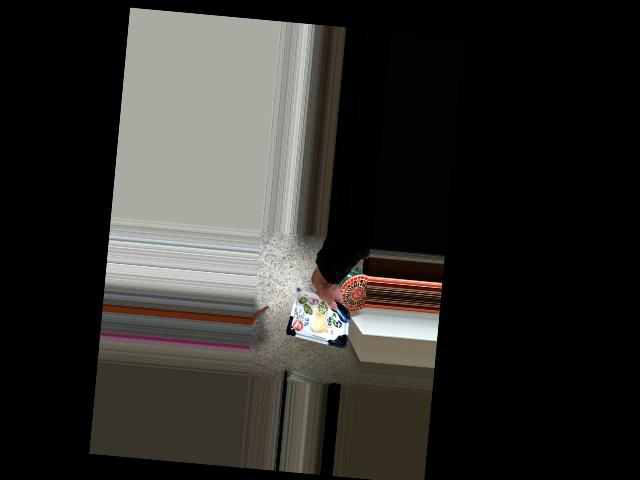cheese: (288, 278, 341, 331)
